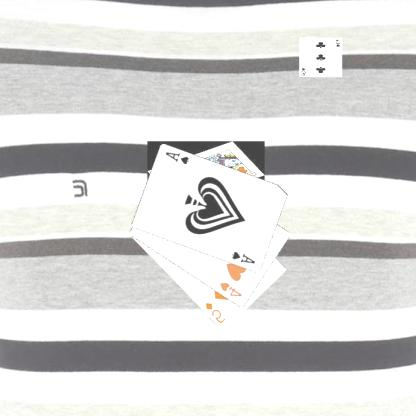4H: (219, 280, 245, 298)
5D: (204, 300, 228, 325)
AS: (165, 149, 192, 166), (231, 249, 258, 265)
